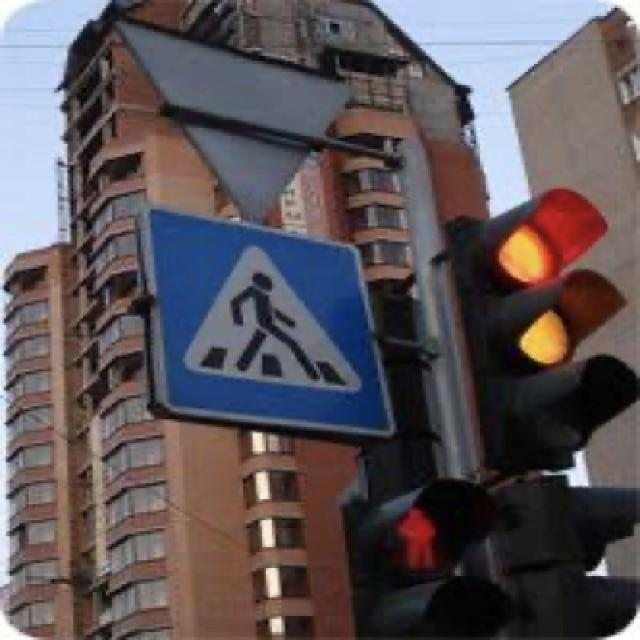crosswalk_sign: (142, 202, 398, 441)
